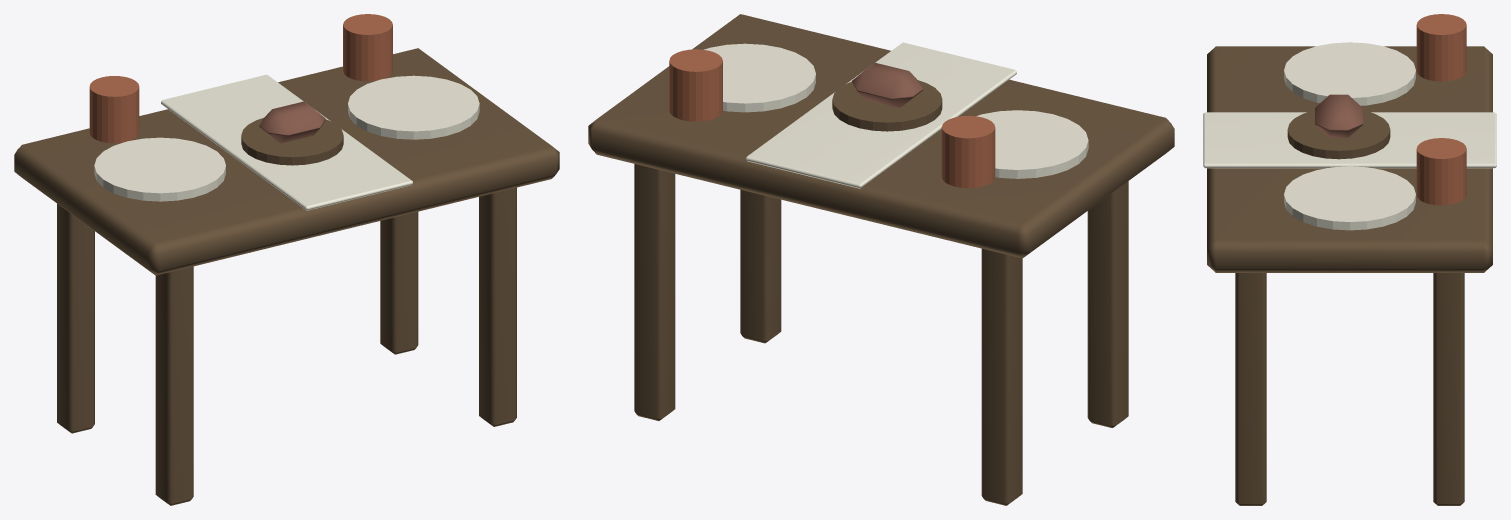
The model's file is home_table.glb.
3 views of the same model, side by side, from view 1: azimuth 30°, elevation 25°; view 2: azimuth 150°, elevation 25°; view 3: azimuth 270°, elevation 25° (orthographic). The views are drawn at different scales.
Parts seen in each view (by area): view 1: oak supper table, linen table runner, tea cup, small loaf; view 2: oak supper table, linen table runner, tea cup, small loaf; view 3: oak supper table, linen table runner, tea cup, small loaf.
Part boxes in pixels (x1,y1,x2,y2): oak supper table: (14, 48, 559, 505); linen table runner: (94, 74, 479, 210); tea cup: (89, 14, 392, 143); small loaf: (259, 101, 325, 143); oak supper table: (588, 14, 1174, 505); linen table runner: (704, 42, 1088, 188); tea cup: (669, 49, 995, 188); small loaf: (851, 62, 922, 107); oak supper table: (1207, 46, 1492, 505); linen table runner: (1203, 42, 1496, 230); tea cup: (1416, 14, 1466, 205); small loaf: (1315, 94, 1362, 137).
Bounding box in the file's own units: 1.3 × 1.01 × 0.8.
